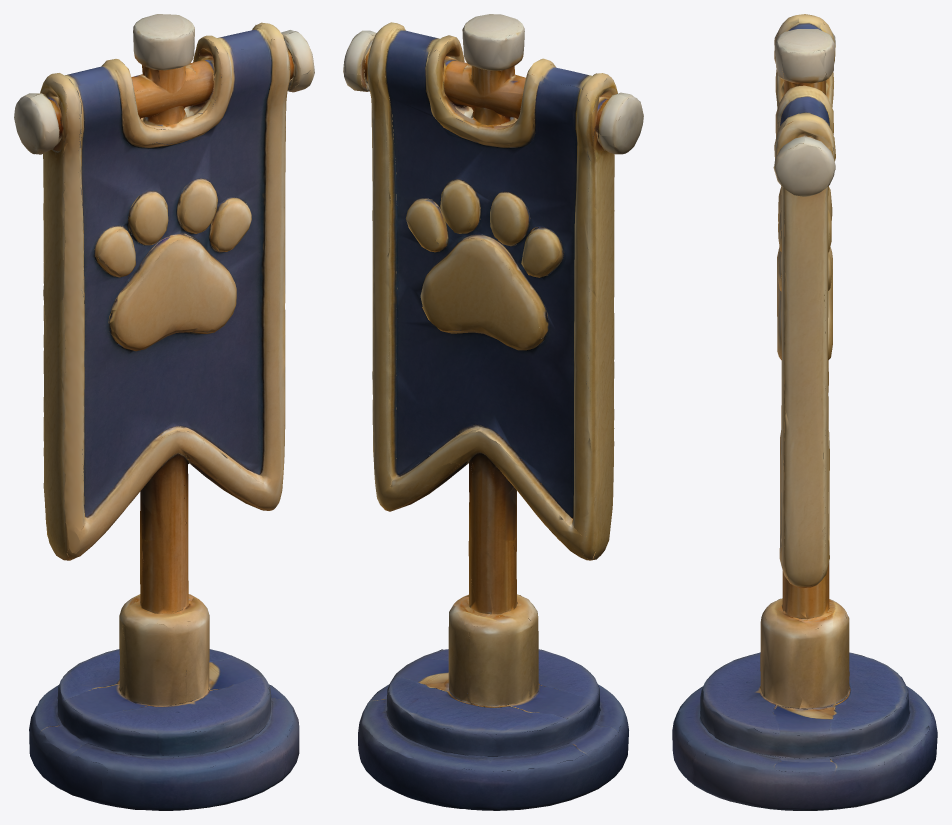
File: Stage_Flag.fbx
3 views of the same model, side by side, from view 1: azimuth 30°, elevation 25°; view 2: azimuth 150°, elevation 25°; view 3: azimuth 270°, elevation 25° (orthographic).
Parts seen in each view (by area): view 1: Prop_flag; view 2: Prop_flag; view 3: Prop_flag.
Part boxes in pixels (x1,y1,x2,y2): Prop_flag: [14, 14, 314, 810]; Prop_flag: [343, 14, 643, 810]; Prop_flag: [672, 14, 937, 810].
Bounding box in the file's own units: 0.8696 × 2.2 × 0.7347.
Materials: 1 (1 with a texture image).
